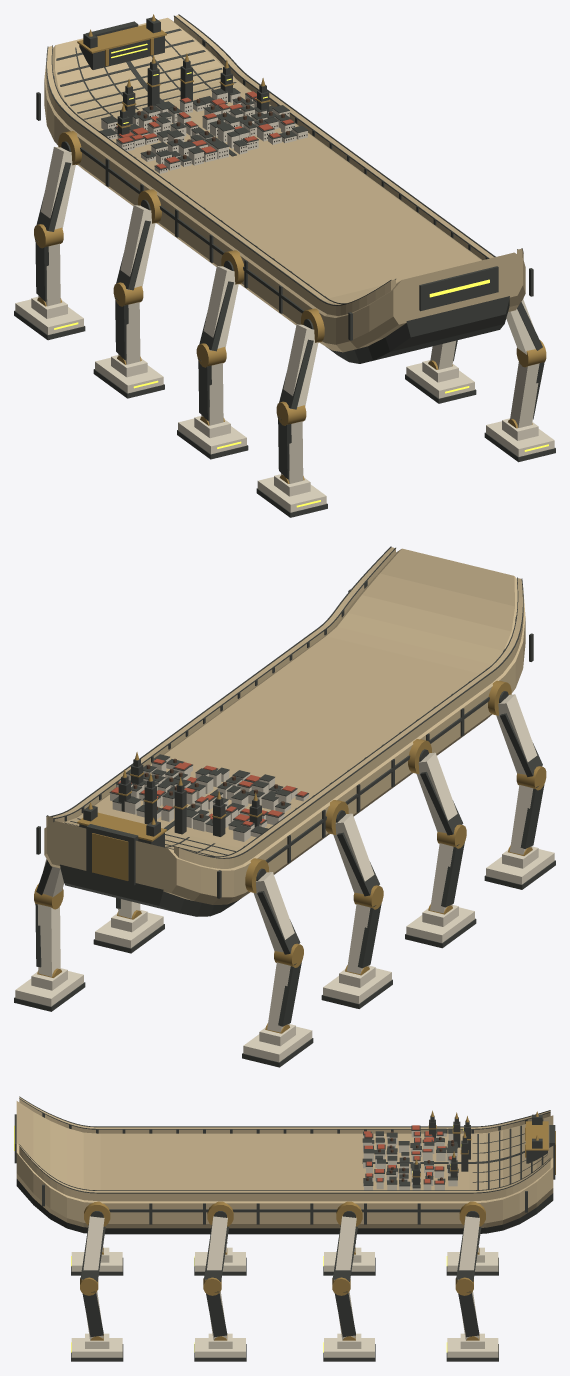
The model's file is ordo_far.glb.
3 views of the same model, one above another, from view 1: azimuth 30°, elevation 25°; view 2: azimuth 150°, elevation 25°; view 3: azimuth 270°, elevation 25° (orthographic). The views are drawn at different scales.
Visible parts, largest first — view 1: ordo_far; view 2: ordo_far; view 3: ordo_far.
Boxes of the visible parts, bbox=[...] form: ordo_far: bbox=[14, 14, 555, 517]; ordo_far: bbox=[14, 546, 555, 1067]; ordo_far: bbox=[14, 1096, 555, 1361].
Bounding box in the file's own units: 177 × 157 × 404.
